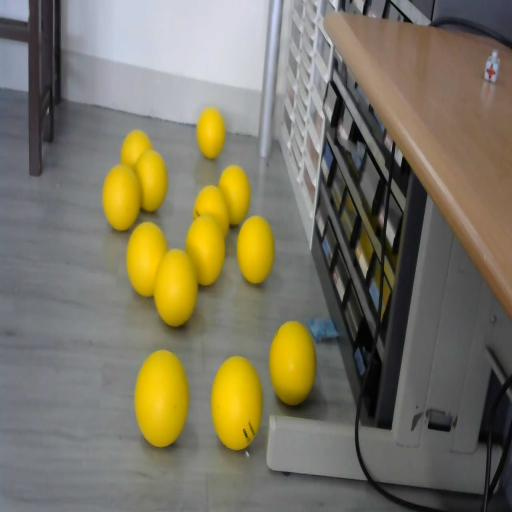FUEL: (134, 348, 188, 446), (210, 354, 264, 450), (269, 320, 316, 405), (126, 220, 168, 296), (185, 213, 226, 286), (236, 214, 275, 284), (102, 164, 142, 230), (134, 148, 168, 212), (219, 165, 251, 225), (196, 108, 226, 158)
